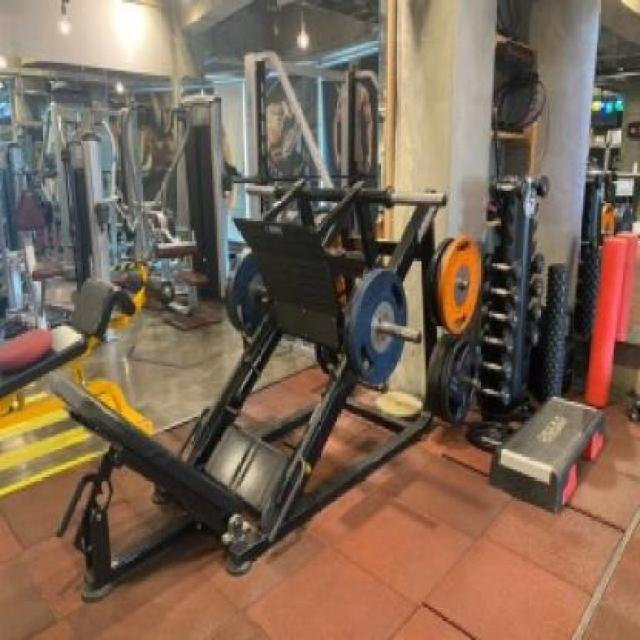leg press: (38, 172, 511, 608)
